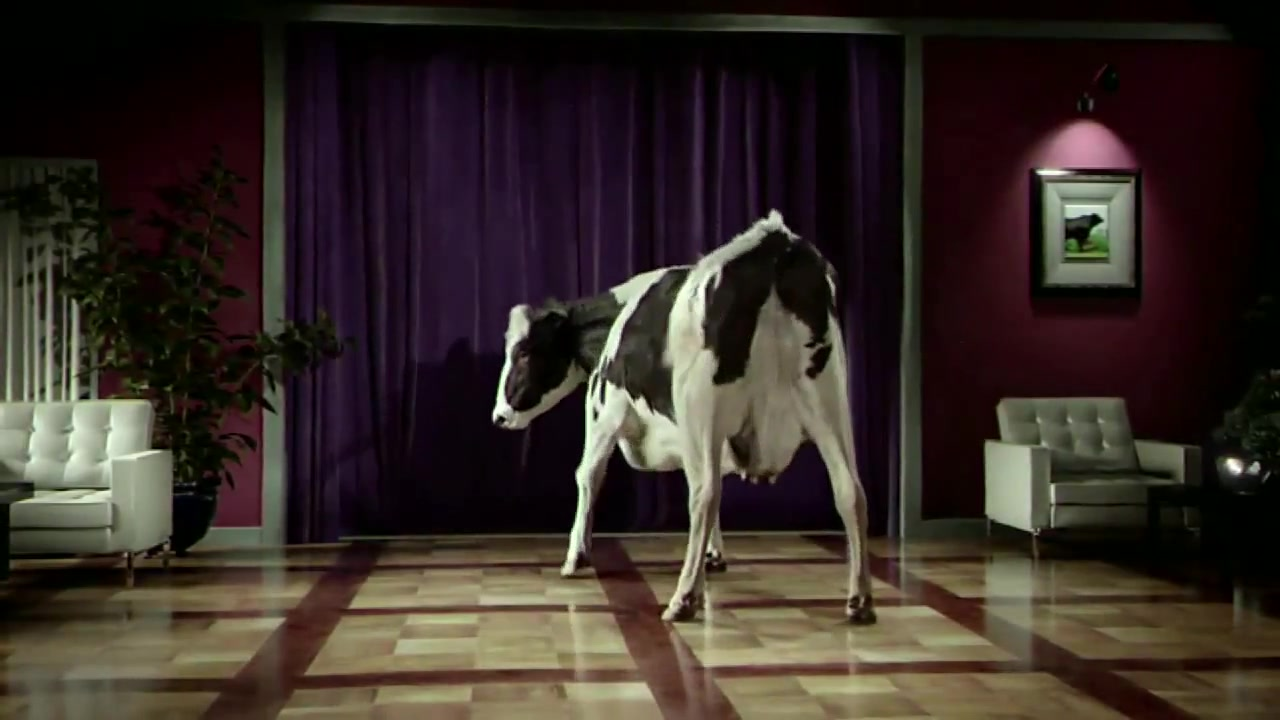cow: (487, 214, 882, 622)
